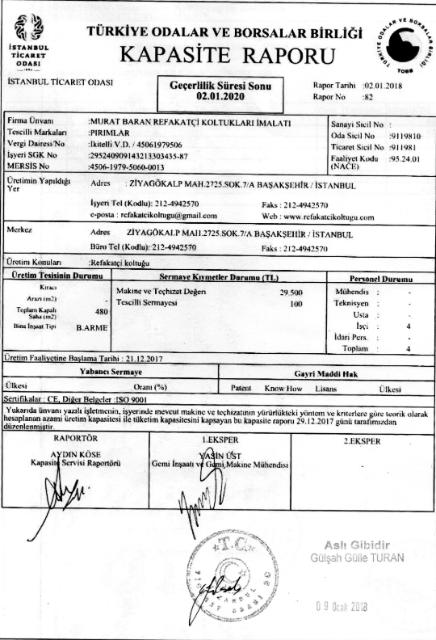stamp: (187, 530, 281, 624)
